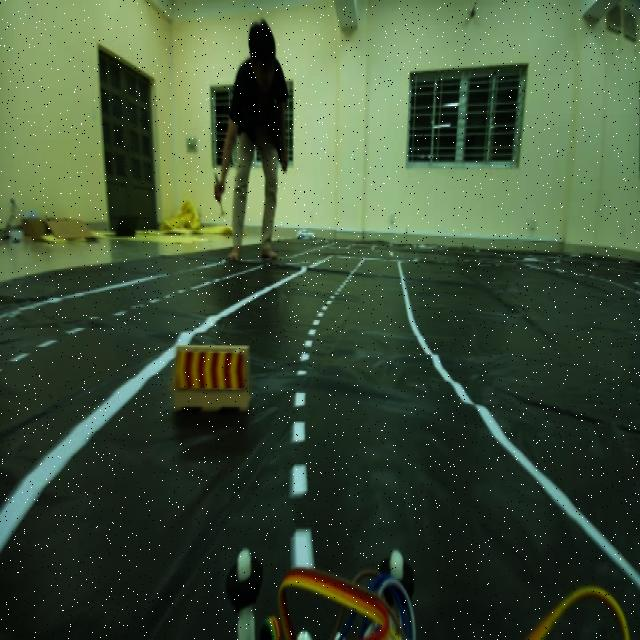roadblock: (174, 334, 254, 422)
